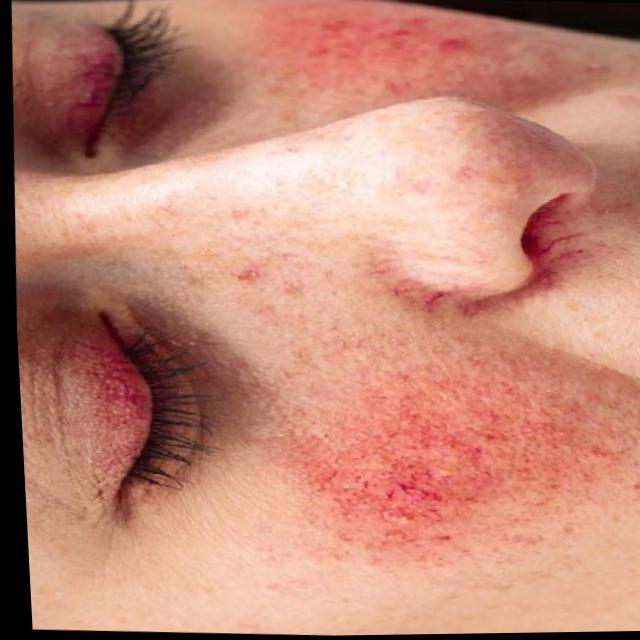Rosacea: (266, 317, 608, 549), (263, 0, 458, 82)
